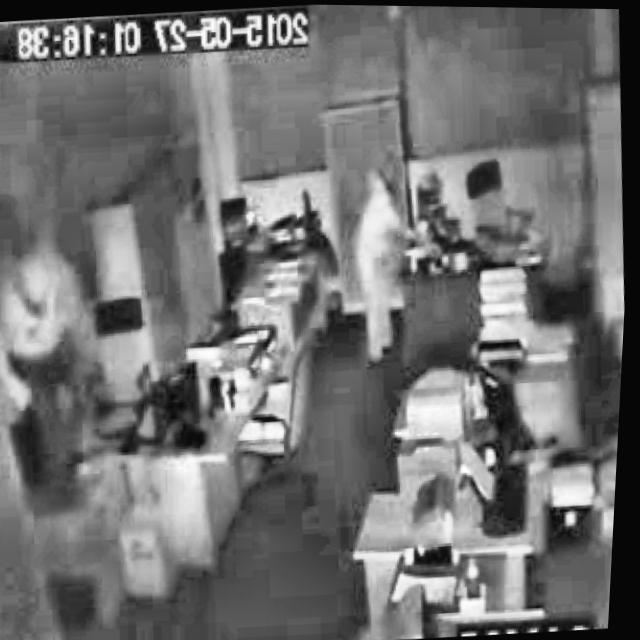burglary: (0, 219, 139, 531), (336, 147, 447, 370)
